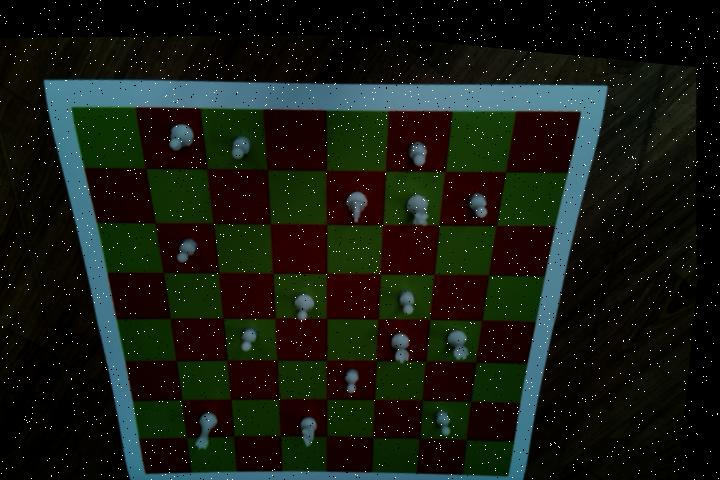chessboard-detect: (72, 100, 581, 470)
